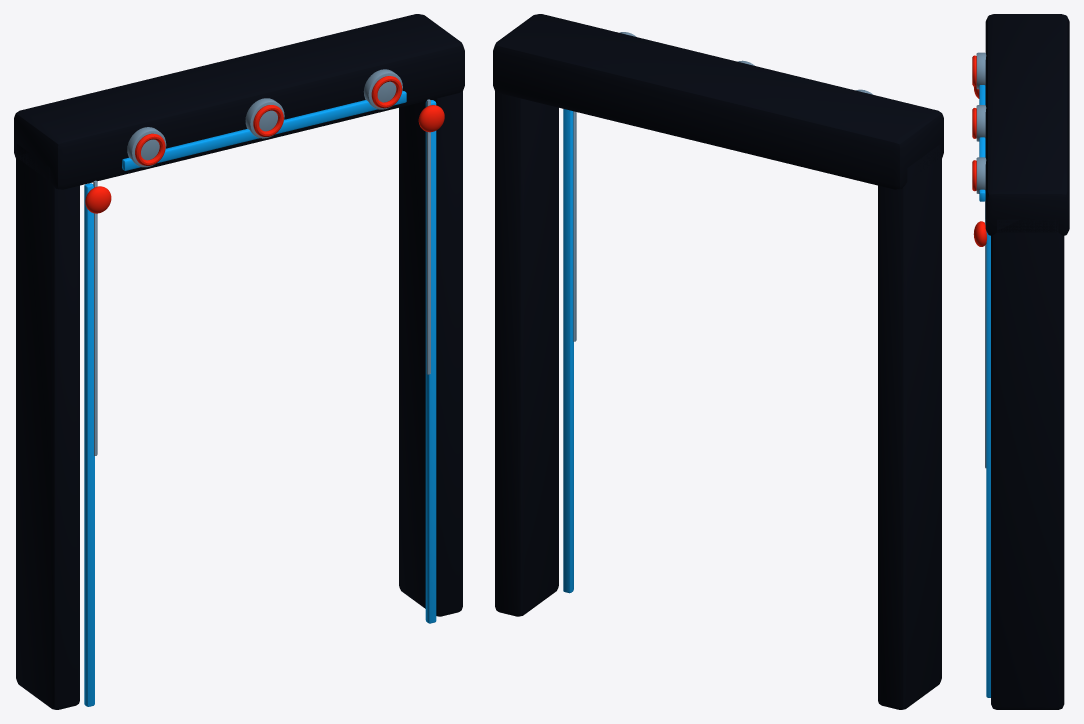
The model's file is timed_shutter_frame.obj.
3 renders of one model, left to right at view 1: azimuth 30°, elevation 25°; view 2: azimuth 150°, elevation 25°; view 3: azimuth 270°, elevation 25°, orthographic. The views are drawn at different scales.
Visible parts, largest first — view 1: TimedShutterFrame; view 2: TimedShutterFrame; view 3: TimedShutterFrame.
Part boxes in pixels (x1,y1,x2,y2): TimedShutterFrame: (14, 14, 464, 709); TimedShutterFrame: (493, 14, 943, 709); TimedShutterFrame: (972, 14, 1069, 709).
Size of the model in its own units: 4 by 5.32 by 0.9038.
Materials: 4 (4 with a texture image).
